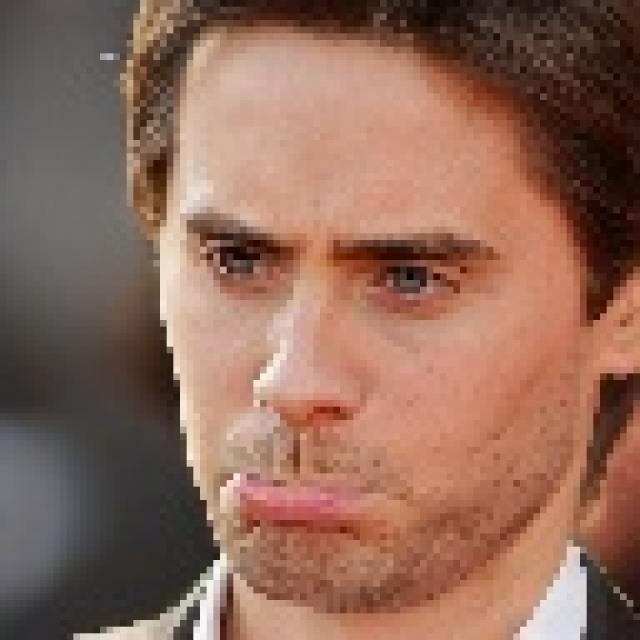sad: (146, 13, 640, 639)
